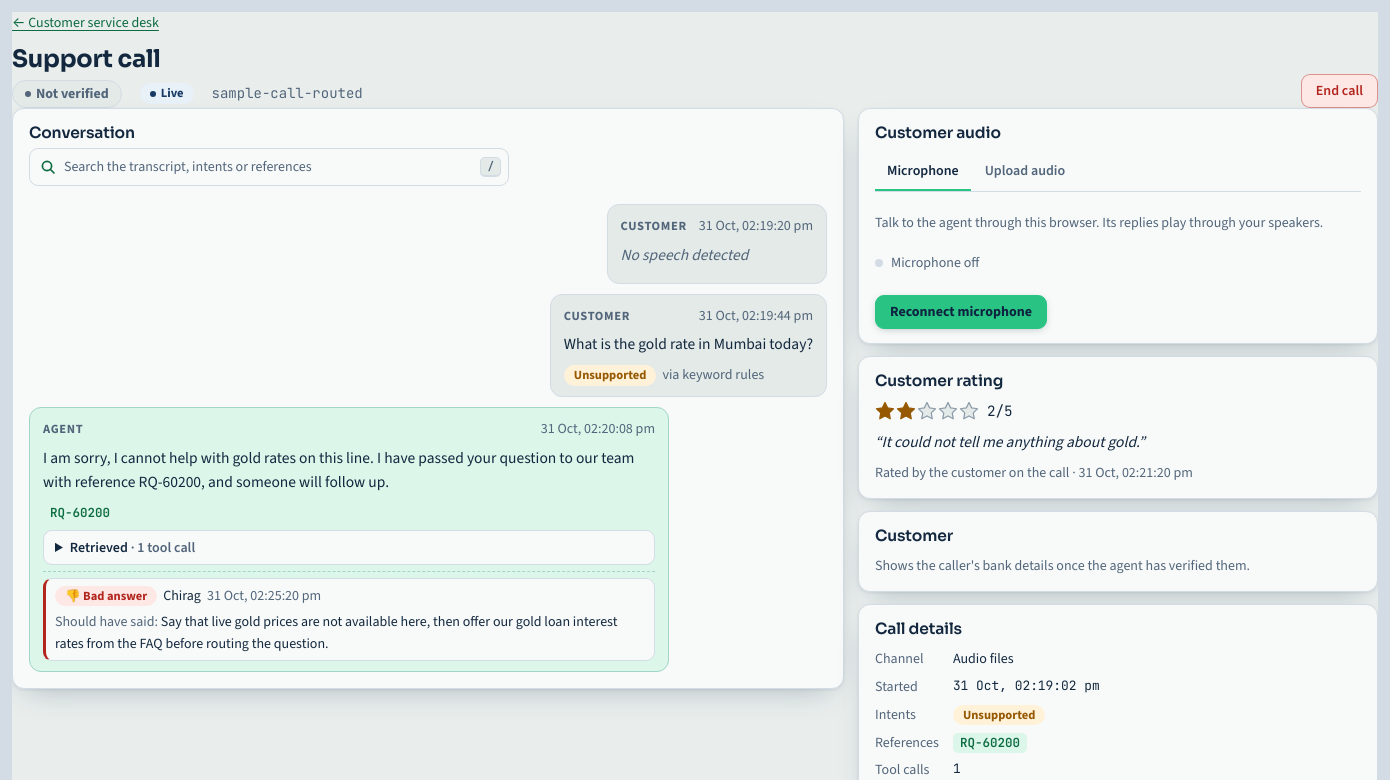
Test: customer turn playback › pauses for side talk by muting the mic before telling the agent, then resumes and stops
What coordinates should you click on to do the following:
click the button "Reconnect microphone"
I would click on:
 (961, 312)
Its box is left=875, top=295, right=1047, bottom=329.
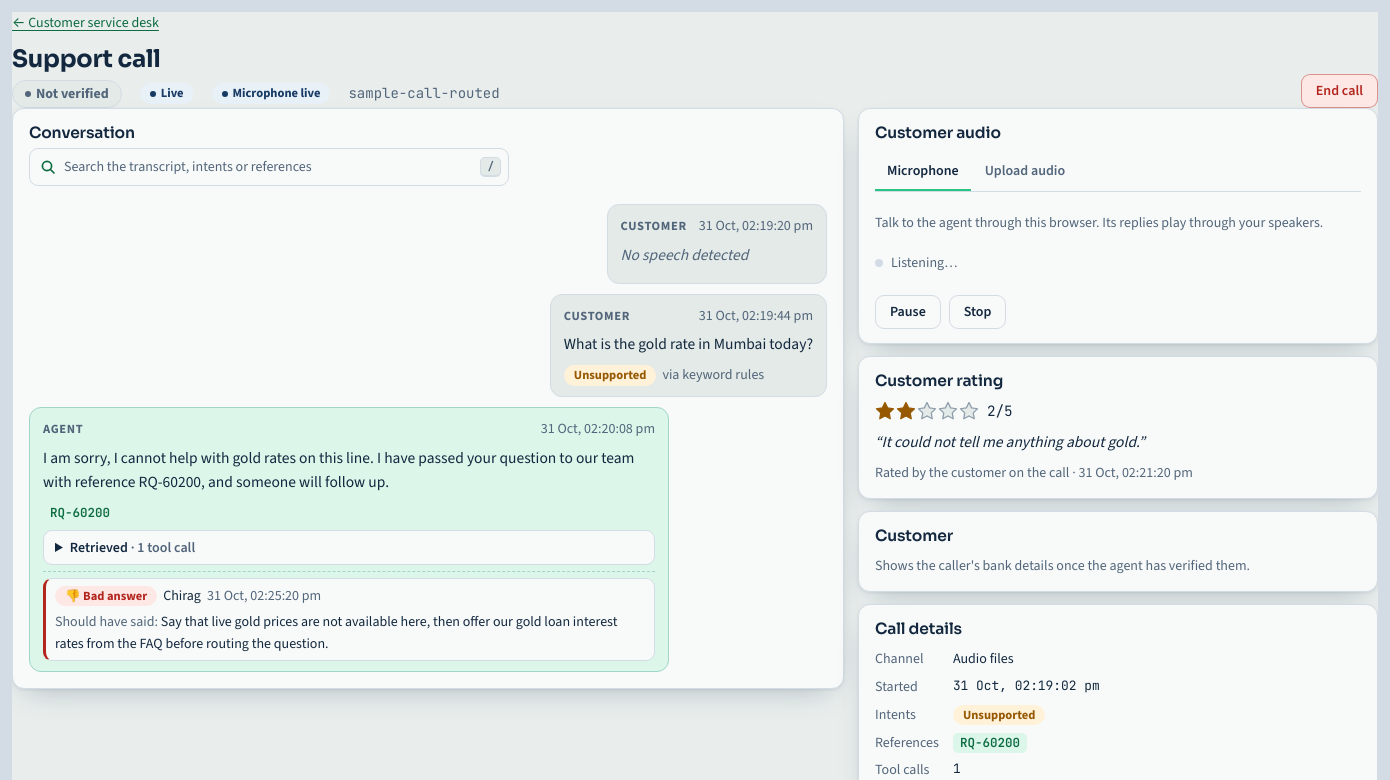
What coordinates should you click on to do the following:
click the button "Pause"
I would click on:
 (908, 312)
Its box is left=875, top=295, right=941, bottom=329.
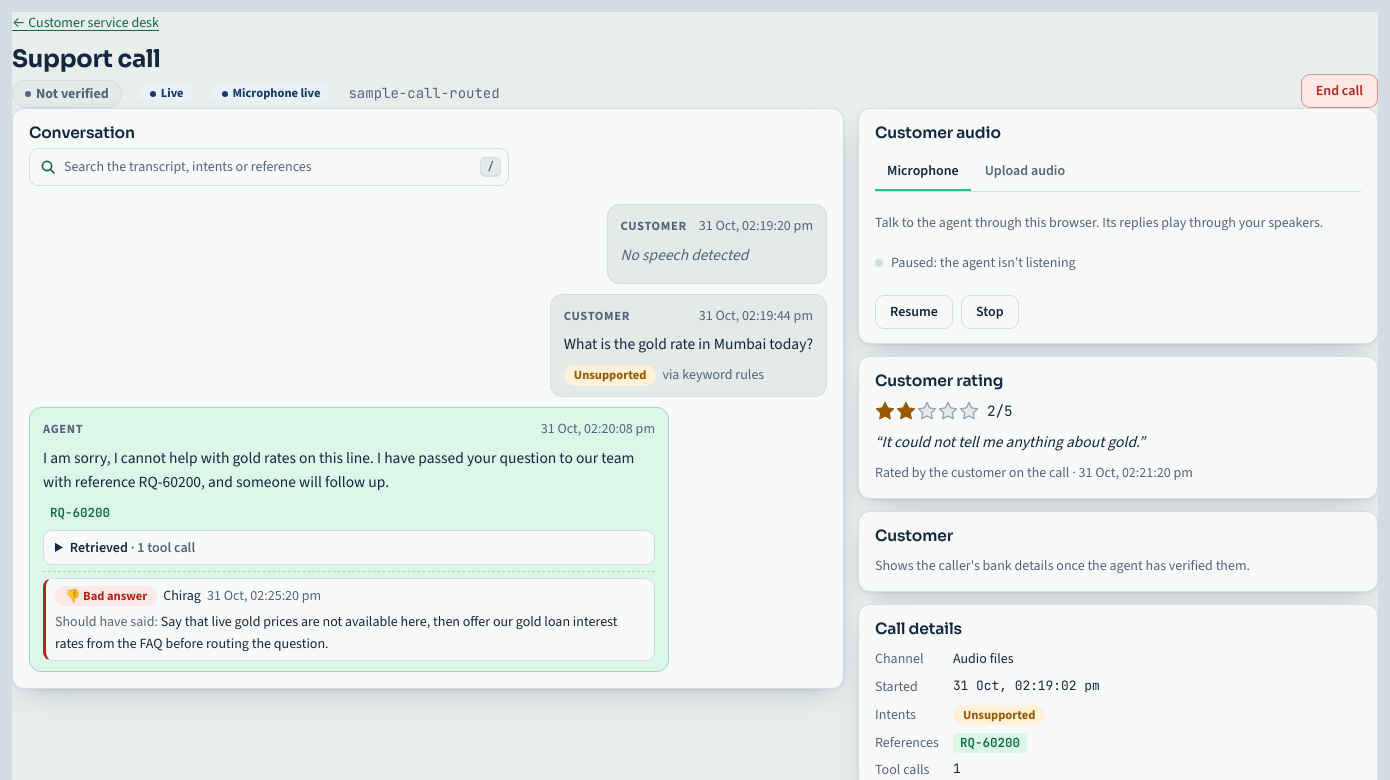
Expected: the button "Resume" is shown
Expected: the text "Paused: the agent isn’t listening" is shown, left=875, top=253, right=1076, bottom=272
What coordinates should you click on to do the following:
click the button "Resume"
I would click on:
 (914, 312)
Its box is left=875, top=295, right=953, bottom=329.
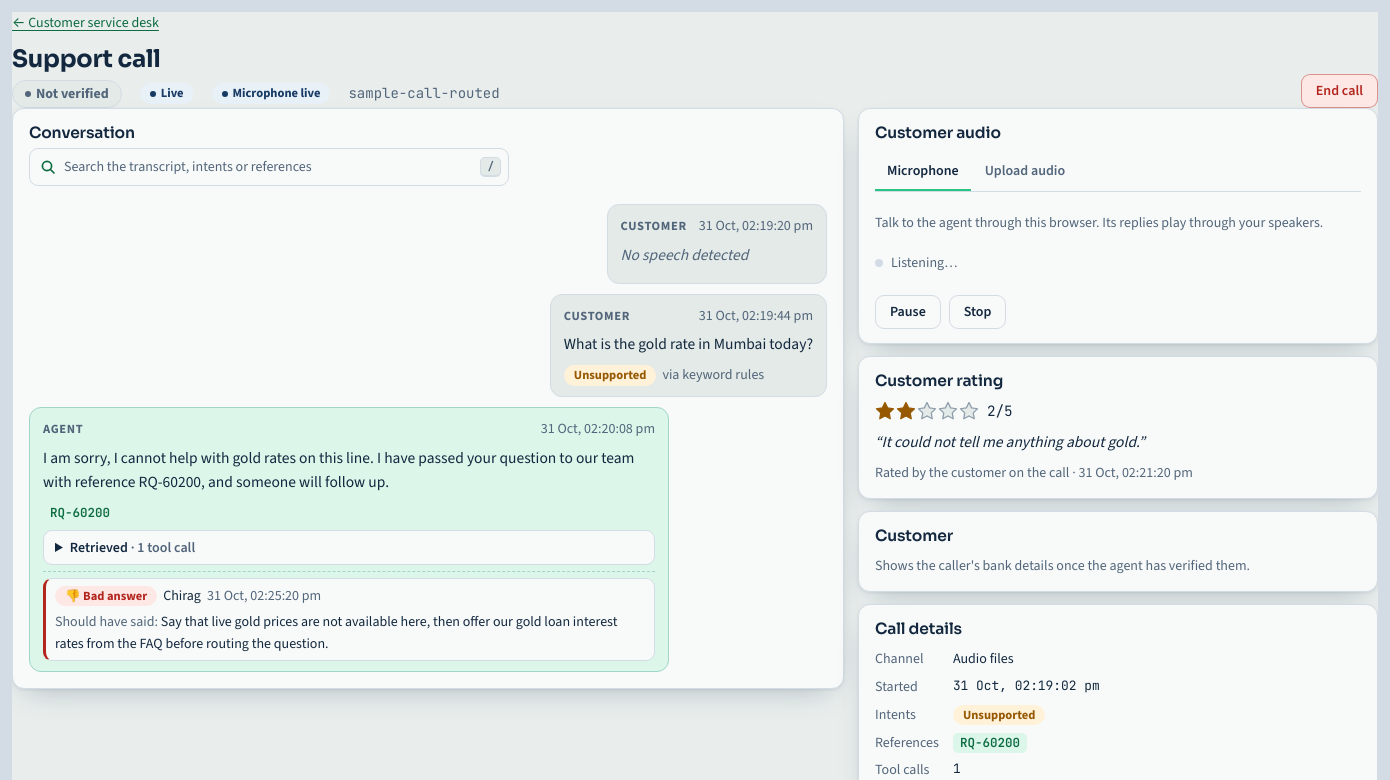
Expected: the button "Pause" is shown, left=875, top=295, right=941, bottom=329
What coordinates should you click on to do the following:
click the button "Stop"
I would click on:
 (978, 312)
Its box is left=949, top=295, right=1006, bottom=329.
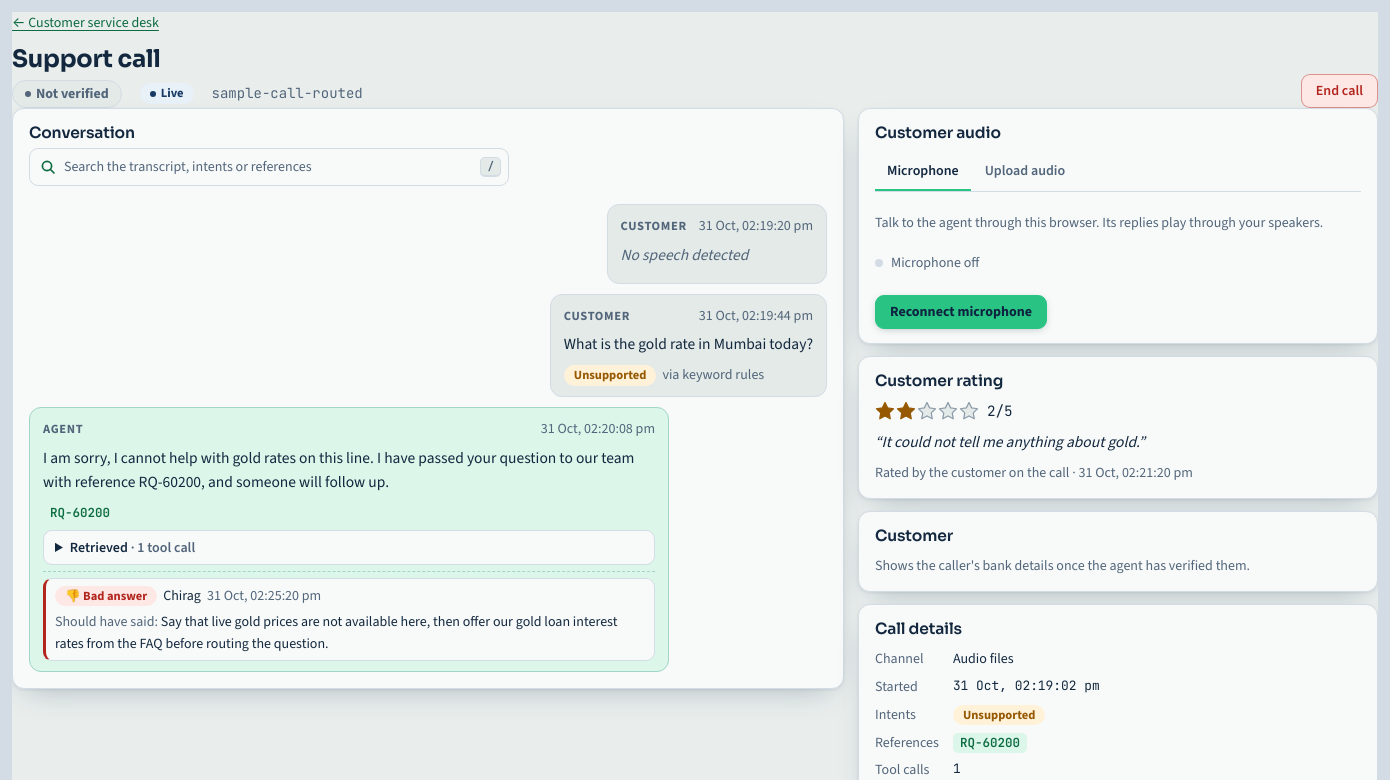
Expected: the button "Reconnect microphone" is shown, left=875, top=295, right=1047, bottom=329
